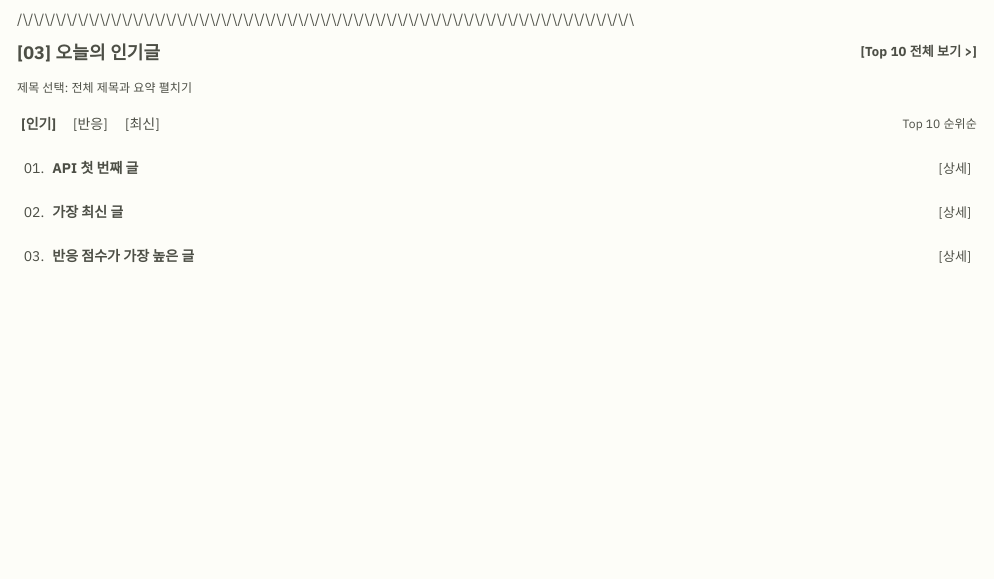
Scenario: TrendingPostFeed › opens only the selected row preview and toggles it closed while retaining its API rank
Click the button "01. API 첫 번째 글". click: click(95, 168)
box: [17, 146, 925, 190]
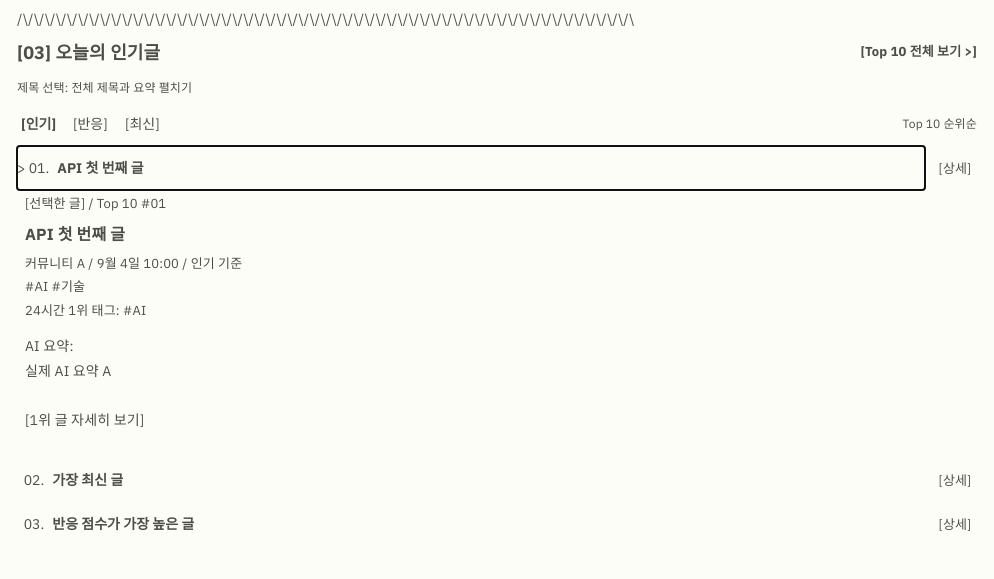
Result: the heading "API 첫 번째 글" is shown at [25, 224, 125, 244]
Result: the button "> 01. API 첫 번째 글" is expanded at [17, 146, 925, 190]
Click the button "02. 가장 최신 글". click: click(88, 480)
box: [17, 458, 925, 502]
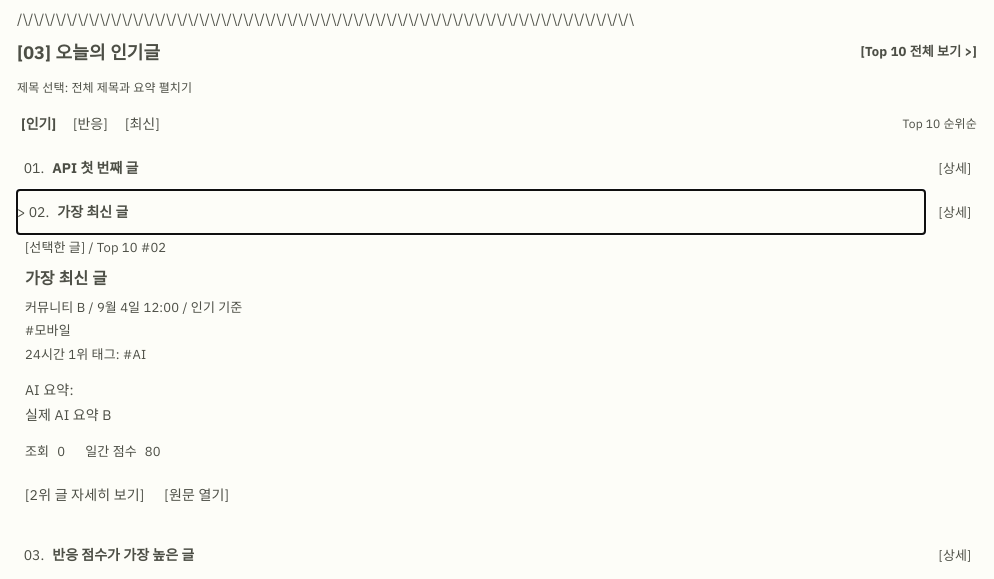
Result: the heading "가장 최신 글" is shown at [25, 268, 107, 288]
Result: the button "01. API 첫 번째 글" is collapsed at [17, 146, 925, 190]
Result: the button "> 02. 가장 최신 글" is expanded
Click the button "> 02. 가장 최신 글". click: click(93, 212)
box: [17, 190, 925, 234]
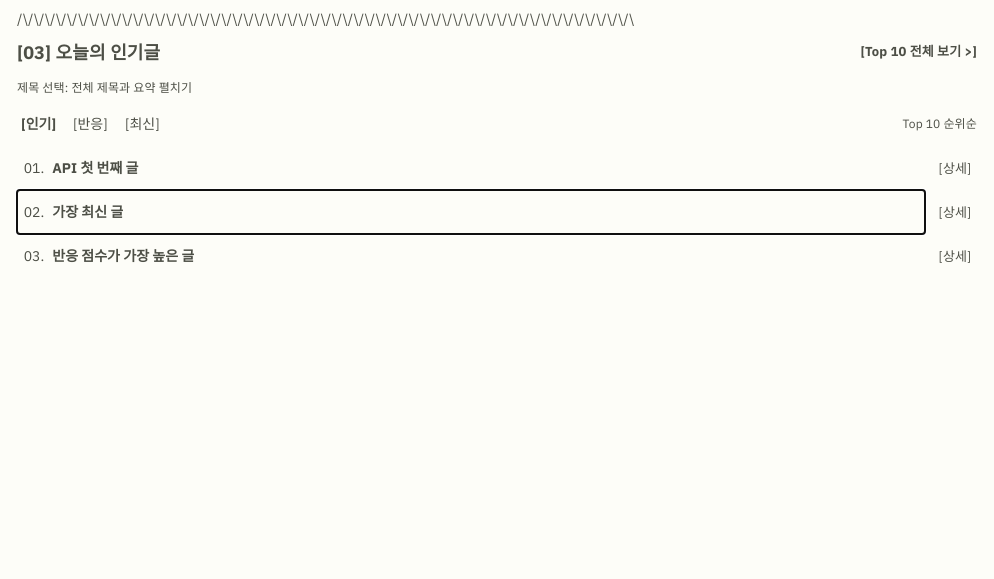
Result: the button "02. 가장 최신 글" is collapsed at [17, 190, 925, 234]
